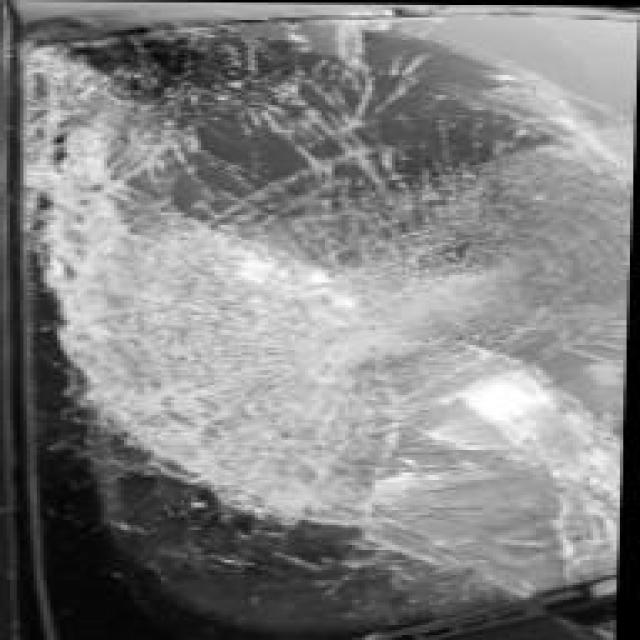Windshield: (0, 0, 633, 630)
